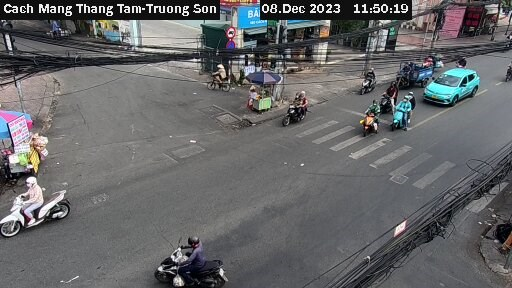car: (425, 67, 481, 109)
motorbike: (1, 180, 77, 239), (147, 234, 230, 288), (354, 97, 388, 141), (280, 89, 314, 128), (390, 97, 422, 135), (376, 80, 400, 110), (357, 64, 379, 92)
